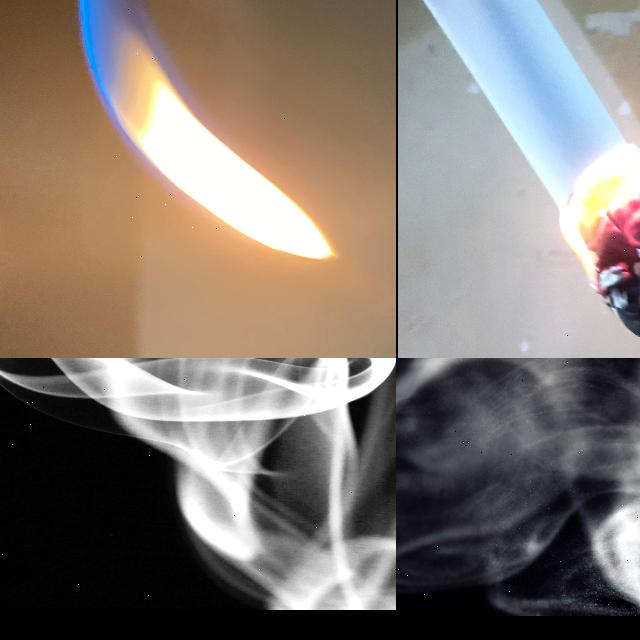fire: (80, 0, 332, 258), (561, 146, 640, 336)
smoke: (0, 358, 396, 609), (396, 358, 640, 615)
